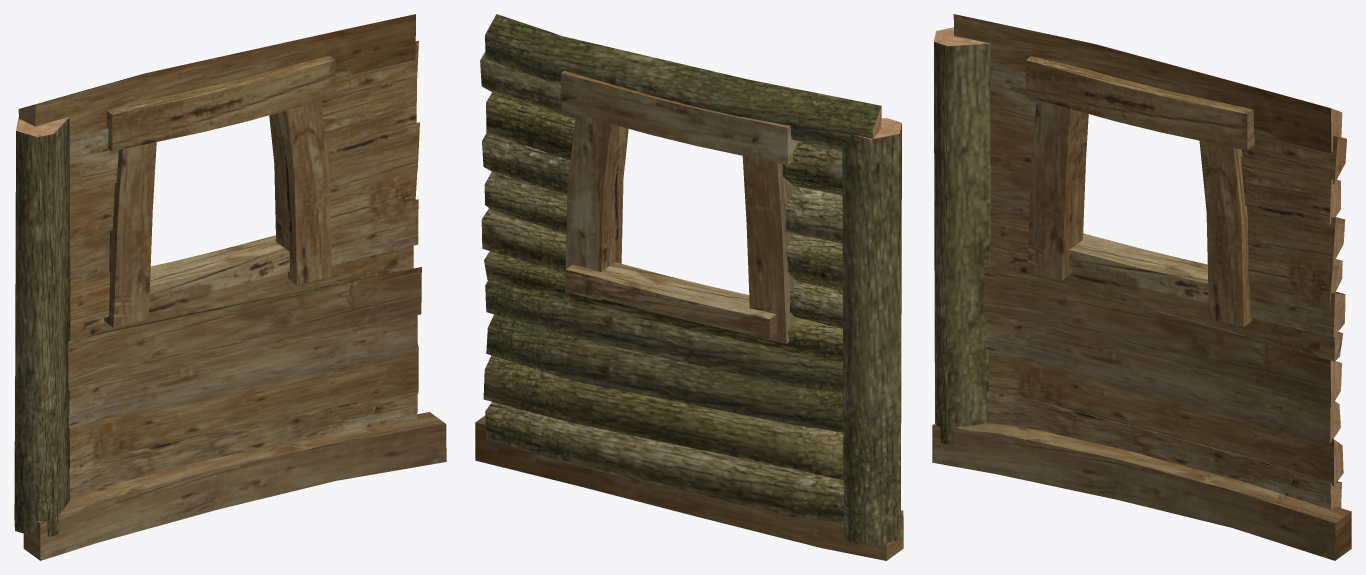
Rendered from House_01_window.obj.
3 views of the same model, side by side, from view 1: azimuth 30°, elevation 25°; view 2: azimuth 150°, elevation 25°; view 3: azimuth 330°, elevation 25° (orthographic). The views are drawn at different scales.
Parts seen in each view (by area): view 1: Window; view 2: Window; view 3: Window.
Part boxes in pixels (x1,y1,x2,y2): Window: (14,14,446,560); Window: (475,14,903,560); Window: (932,14,1351,560).
Size of the model in its own units: 2.06 by 2.09 by 0.333.
